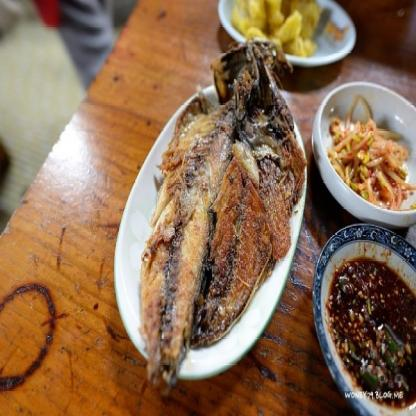Peixe: (103, 35, 319, 399)
